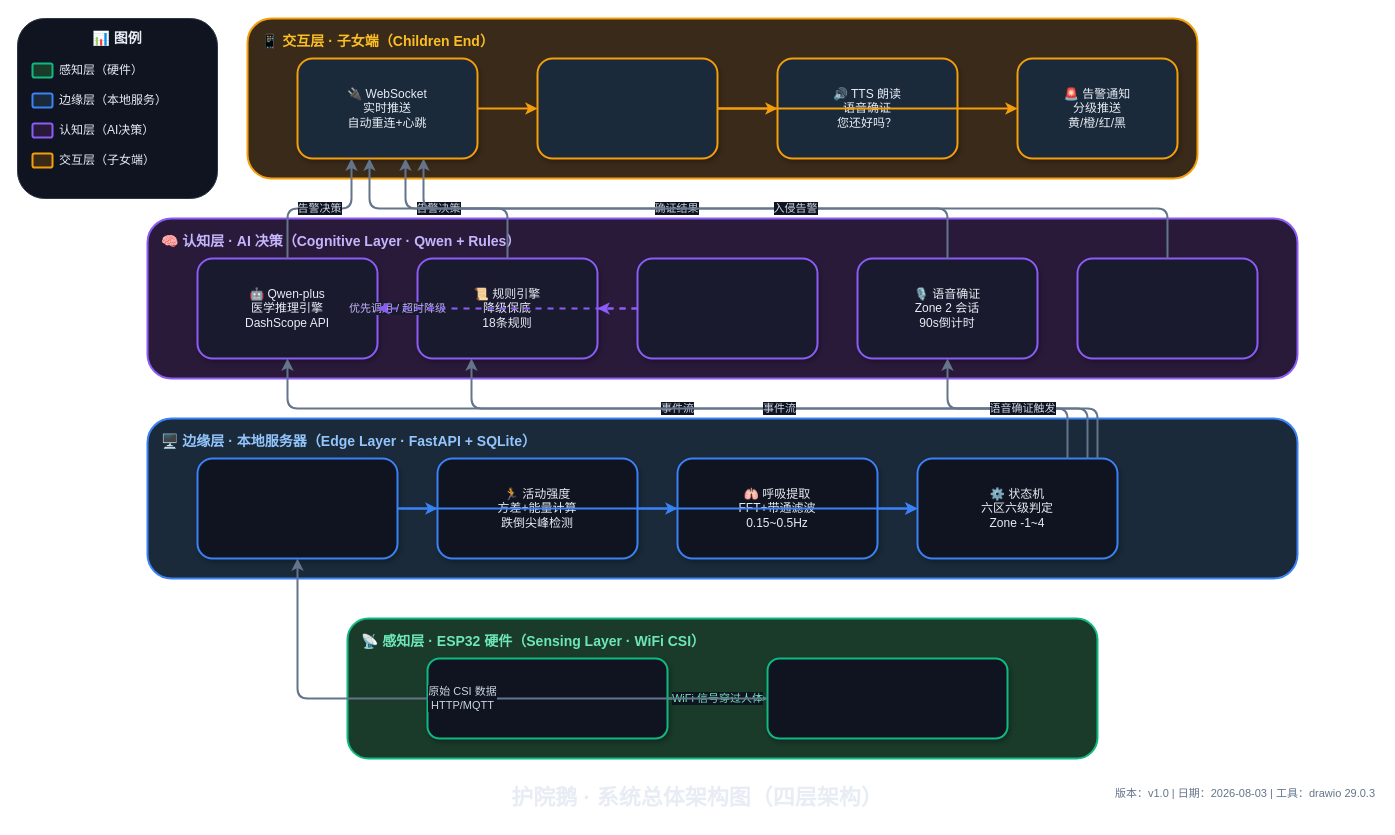
Some shapes in this 1395 by 835 pixel diagram are drawn without their labels. Here are the shapes that lost their labels. From the top down, the centre of each, then its label:
At point (628, 109): "🌐 Web SPA 浏览器访问 原生JS+CSS变量".
At point (728, 309): "💊 病历个性化 8种病史策略 高血压/心梗/...".
At point (1168, 309): "🛡️ 护家模式 防盗监测 入侵告警".
At point (298, 509): "📥 数据接入 POST /ingest/sample HTTP/MQTT".
At point (548, 699): "📡 ESP32 发射端 TX · 发送 CSI 探测帧".
At point (888, 699): "📡 ESP32 接收端 RX · 采集 CSI 数据".
